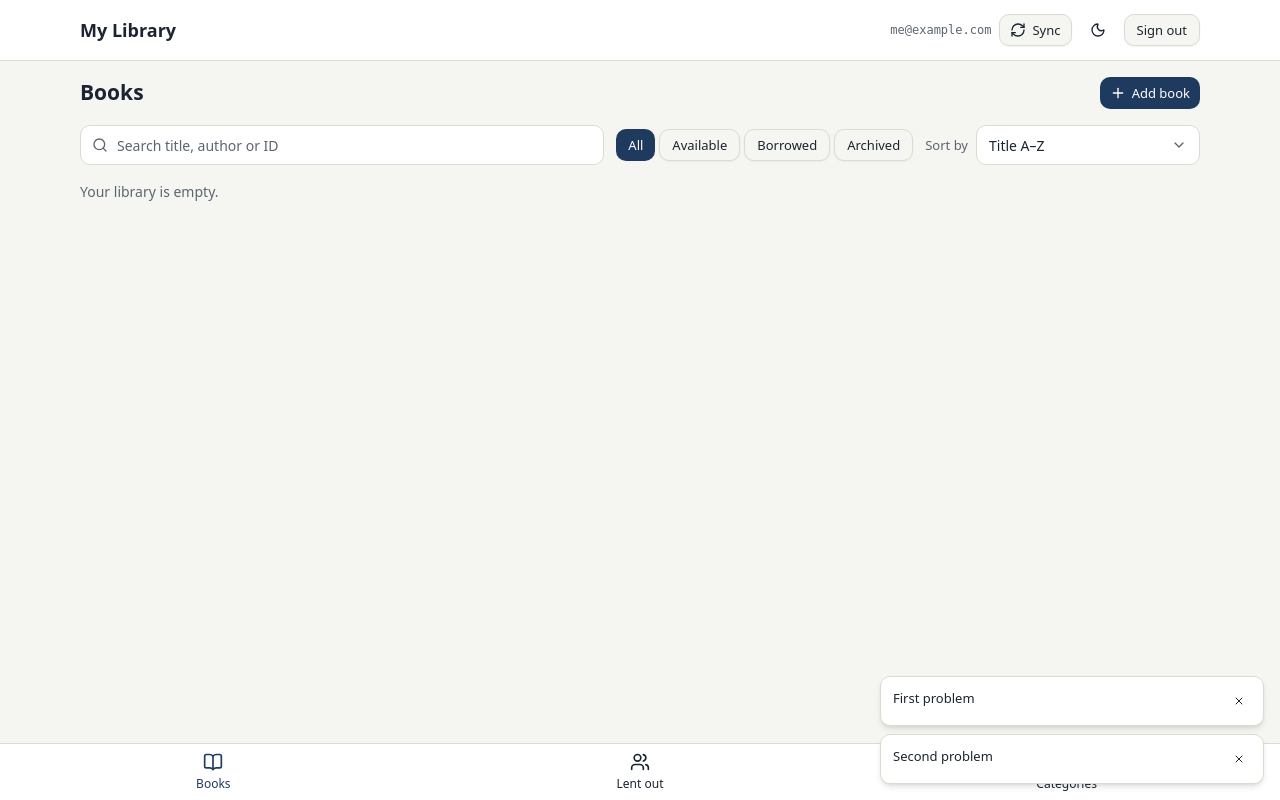
Test: NoticesHost › shows notices raised by the store and dismisses them one at a time
This screenshot has width=1280, height=800.
Check: the heading "Books" is shown, box [80, 78, 144, 108]
What coordinates should you click on to do the following:
click the button named "Dismiss notice" in the row of "First problem"
I would click on:
 (1239, 701)
Its box is [1227, 689, 1251, 713].
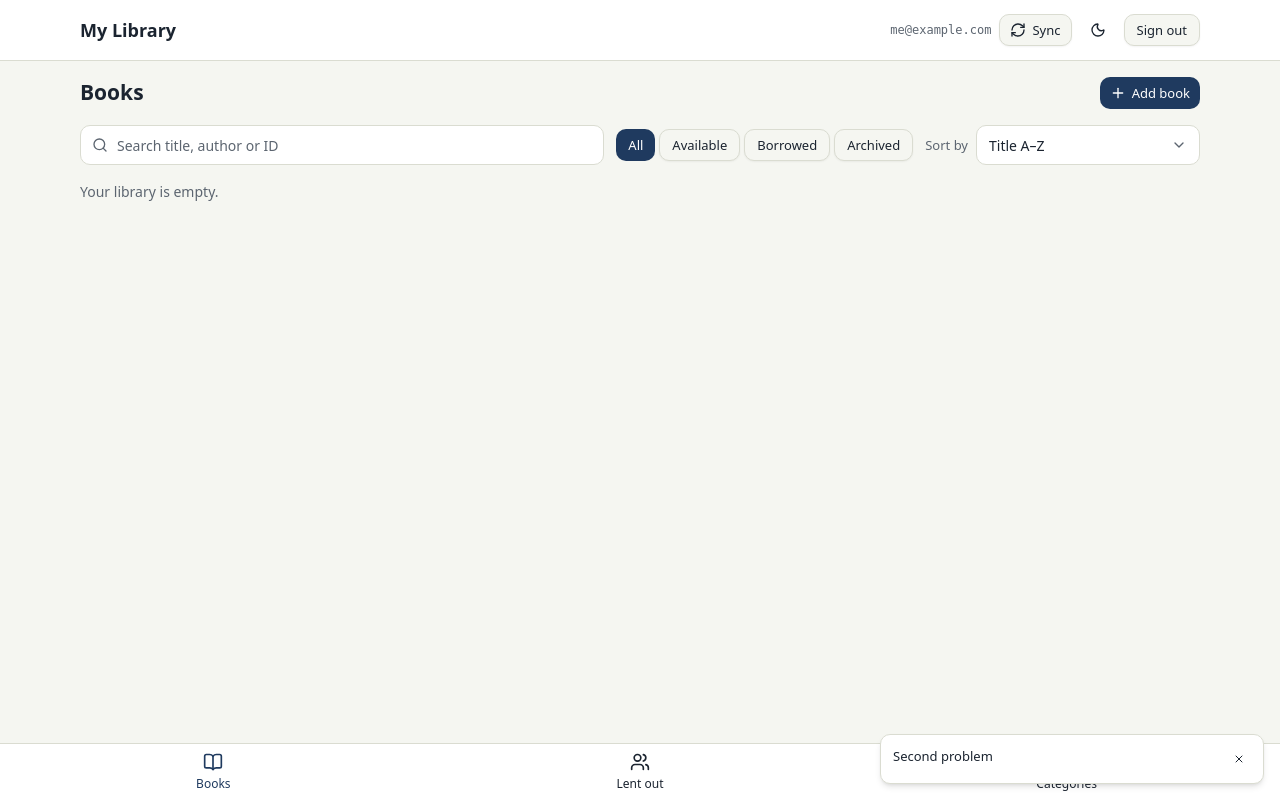
Check: the text "Second problem" is shown, box [893, 747, 993, 765]
Check: the text "First problem" is gone
